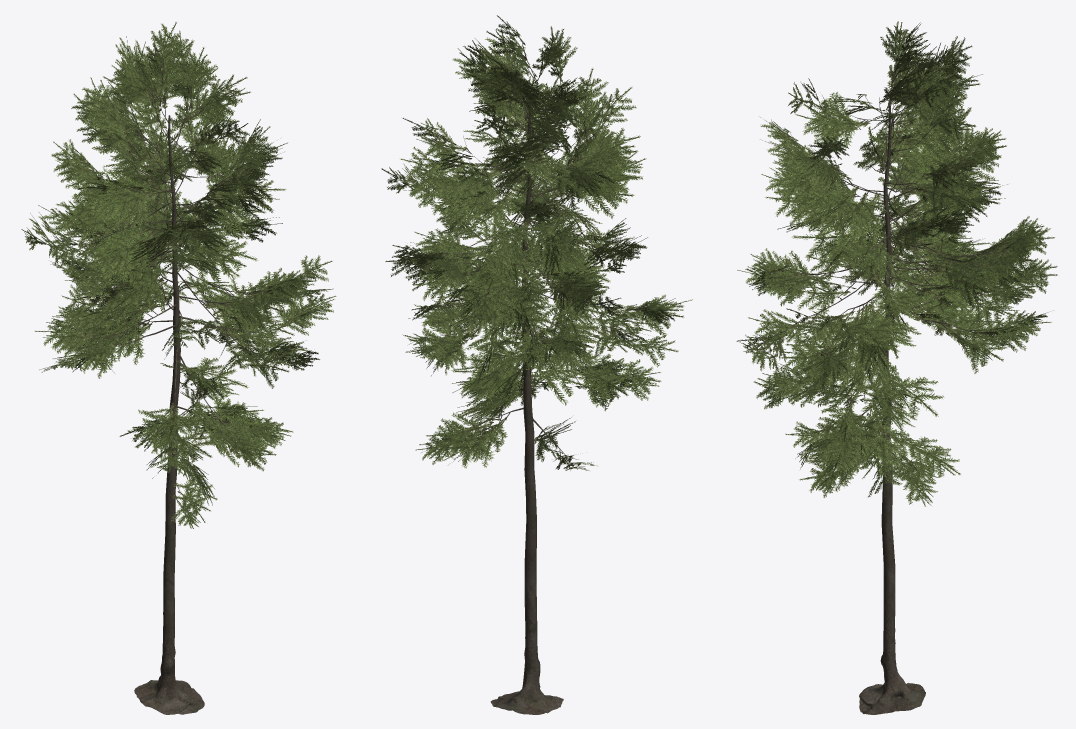
File: fir_tree.glb
3 views of the same model, side by side, from view 1: azimuth 30°, elevation 25°; view 2: azimuth 150°, elevation 25°; view 3: azimuth 270°, elevation 25° (orthographic). The views are drawn at different scales.
Visible parts, largest first — view 1: Woodland fir_tree; view 2: Woodland fir_tree; view 3: Woodland fir_tree.
Boxes of the visible parts, x1,y1,x2,y2 form: Woodland fir_tree: [21, 22, 336, 714]; Woodland fir_tree: [381, 15, 692, 714]; Woodland fir_tree: [736, 21, 1057, 714].
Size of the model in its own units: 6.22 by 14.36 by 6.24.
Materials: 3 (3 with a texture image).
